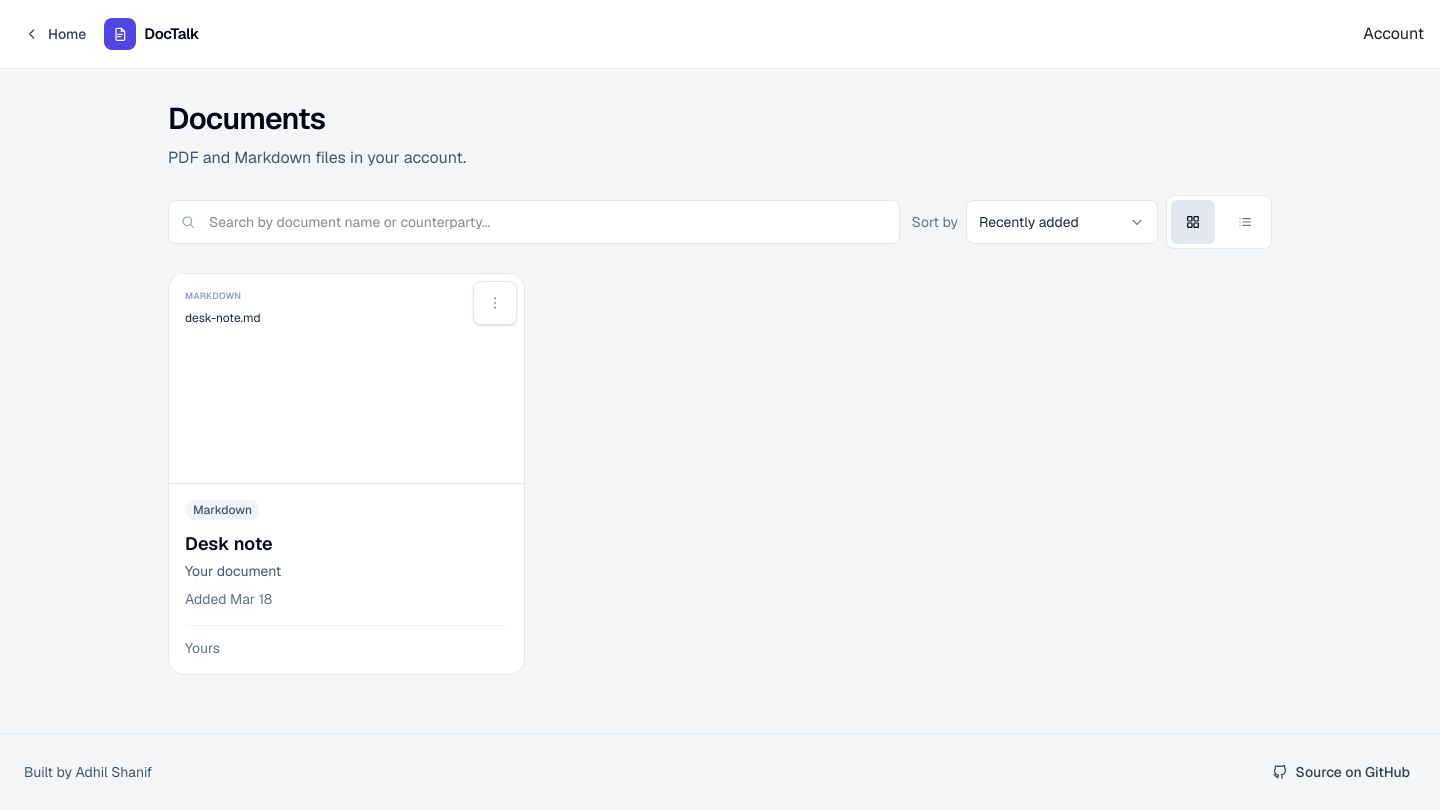
DocumentsDashboard › gives every signed-in card a menu and does not say Open document
Click the button named "Actions for Desk note" at (495,303), box top-left (473, 281), bottom-right (517, 325)
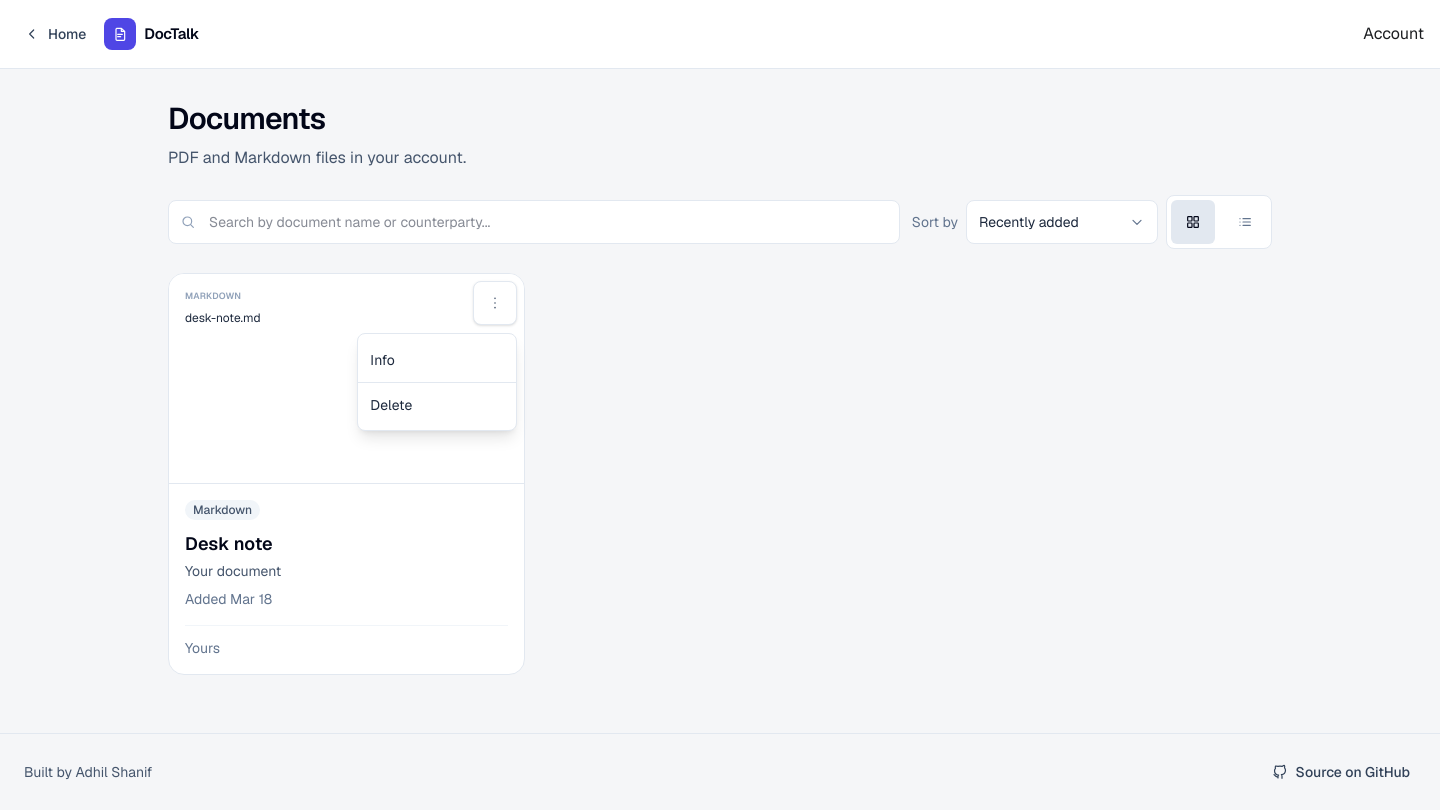
Now the menu item "Info" is shown, box top-left (358, 338), bottom-right (516, 382)
Now the menu item "Delete" is shown, box top-left (358, 382), bottom-right (516, 426)
